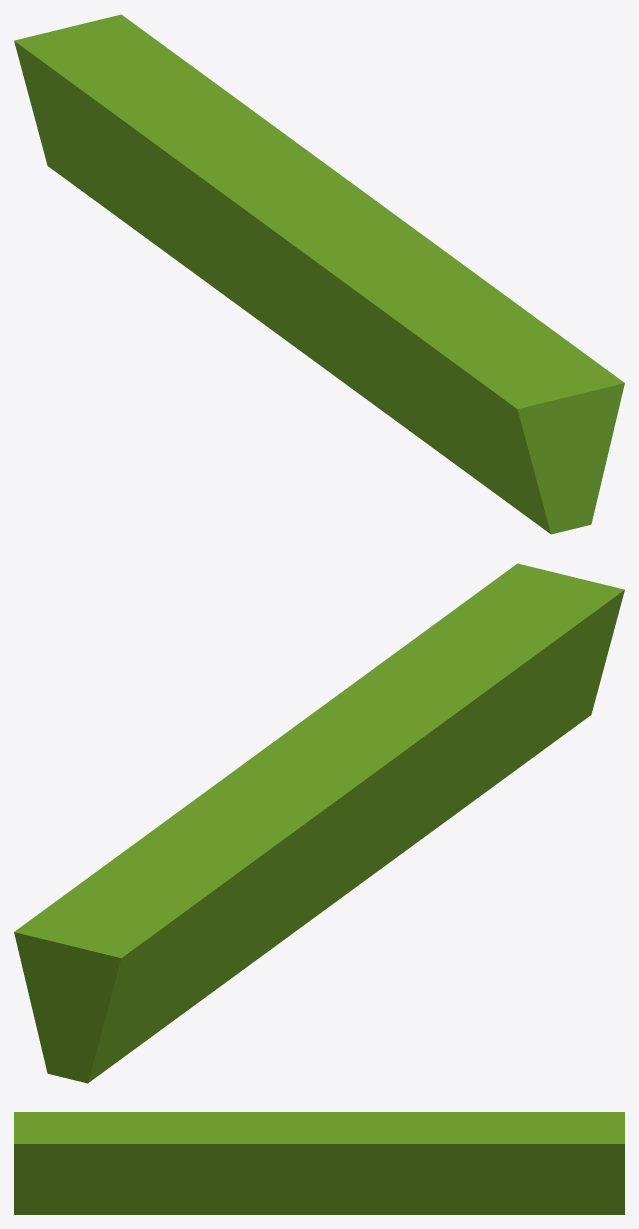
Rendered from hedge_02.fbx.
3 views of the same model, one above another, from view 1: azimuth 30°, elevation 25°; view 2: azimuth 150°, elevation 25°; view 3: azimuth 270°, elevation 25° (orthographic). The views are drawn at different scales.
Parts seen in each view (by area): view 1: hedge_02; view 2: hedge_02; view 3: hedge_02.
Boxes of the visible parts, bbox=[...] form: hedge_02: bbox=[14, 14, 624, 534]; hedge_02: bbox=[14, 563, 624, 1083]; hedge_02: bbox=[14, 1112, 624, 1214].
Bounding box in the file's own units: 0.8427 × 1 × 6.84.
